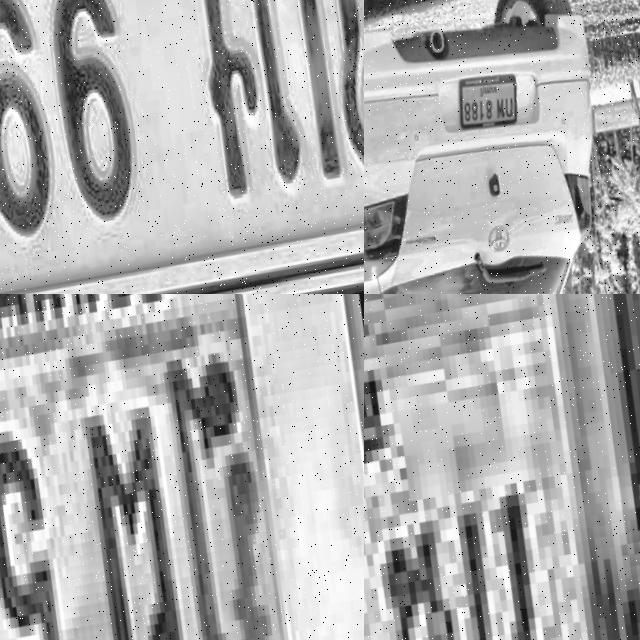license-plate: (0, 294, 364, 640), (0, 0, 364, 294), (364, 294, 640, 640), (442, 49, 542, 140)
